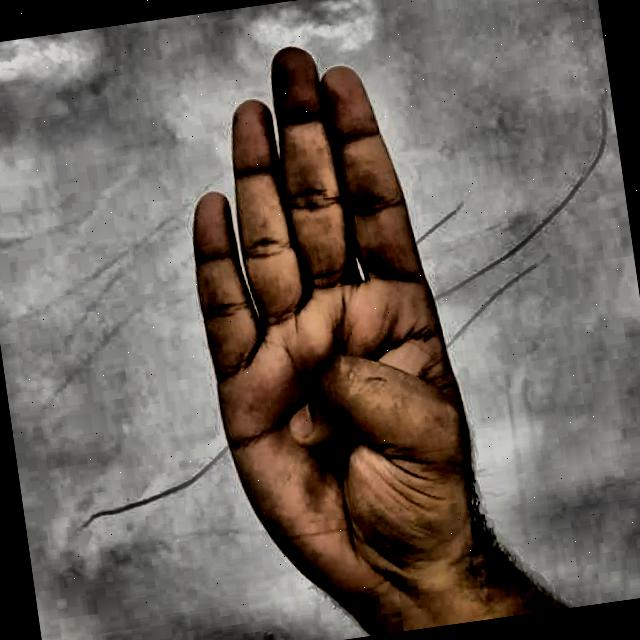Ba: (132, 0, 546, 640)
